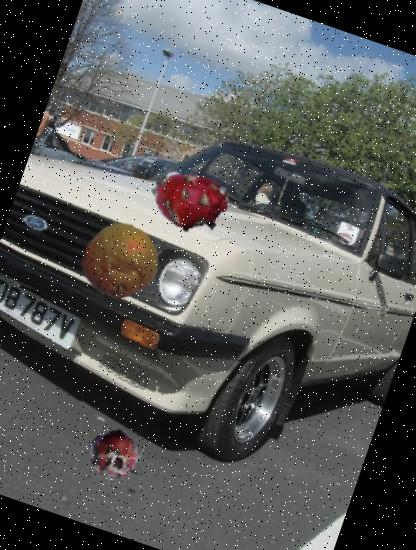Mandarine: (71, 212, 169, 310)
Pitahaya: (140, 151, 240, 250), (76, 416, 154, 495)
